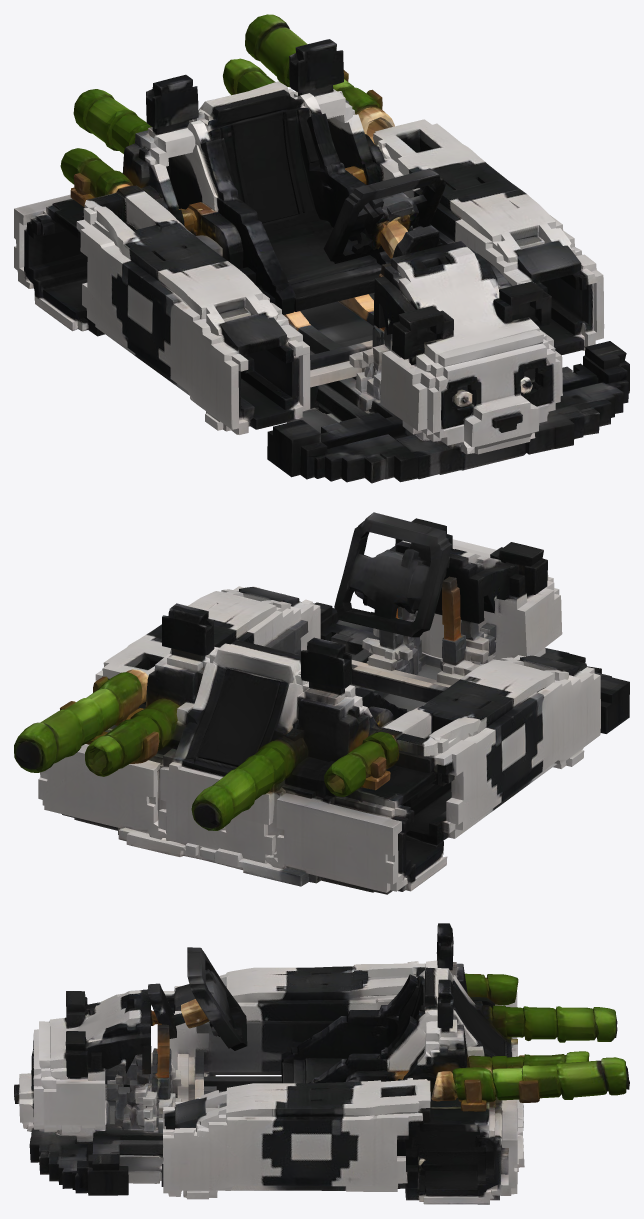
File: panda.glb
The picture shows the model from 3 angles, top to bottom: view 1: azimuth 30°, elevation 25°; view 2: azimuth 150°, elevation 25°; view 3: azimuth 270°, elevation 25°; orthographic projection. The views are drawn at different scales.
Visible parts, largest first — view 1: model; view 2: model; view 3: model.
Part boxes in pixels (x1=…): model: x1=14, y1=14, x2=629, y2=483; model: x1=14, y1=512, x2=629, y2=894; model: x1=14, y1=923, x2=629, y2=1204.
Size of the model in its own units: 1.08 by 0.6043 by 1.9.
1 material, 1 textured.
